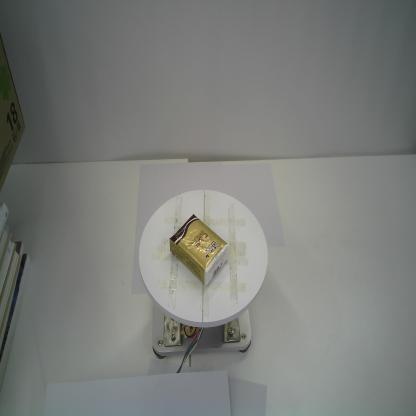Tissue: (169, 213, 230, 287)
